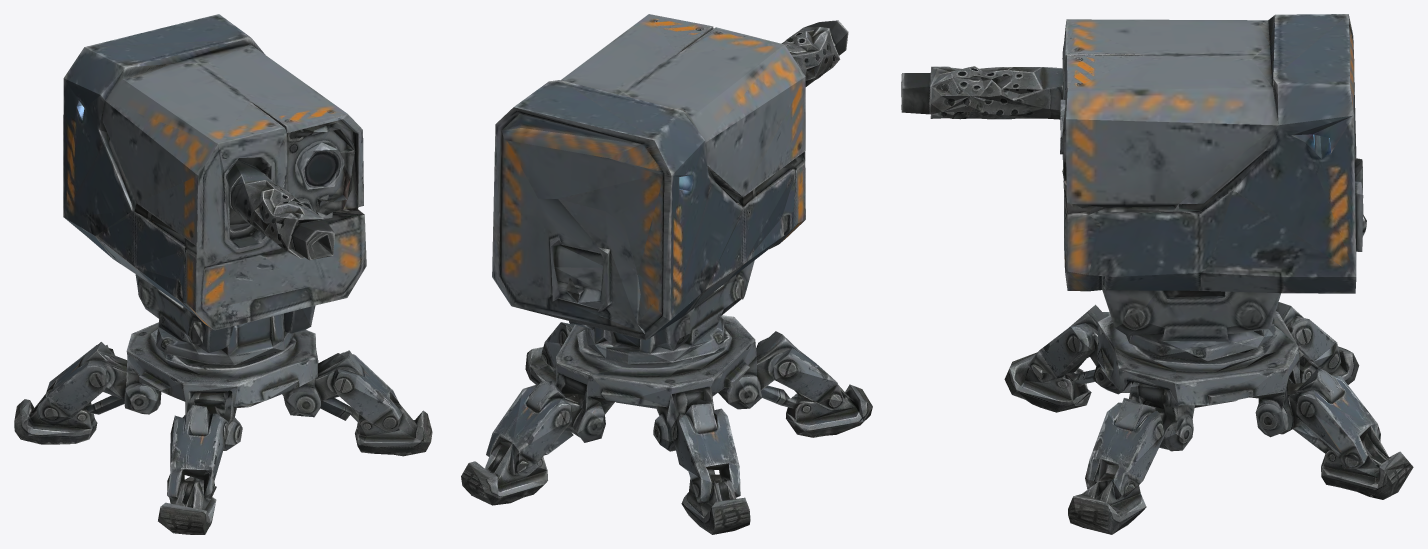
The model's file is gunpost.glb.
The picture shows the model from 3 angles, left to right: view 1: azimuth 30°, elevation 25°; view 2: azimuth 150°, elevation 25°; view 3: azimuth 270°, elevation 25°; orthographic projection. The views are drawn at different scales.
Parts seen in each view (by area): view 1: Mesh_0; view 2: Mesh_0; view 3: Mesh_0.
Boxes of the visible parts, x1,y1,x2,y2 form: Mesh_0: (14, 14, 432, 534); Mesh_0: (461, 14, 872, 534); Mesh_0: (901, 14, 1413, 534).
Bounding box in the file's own units: 0.505 × 0.5663 × 0.65.
1 material, 1 textured.
